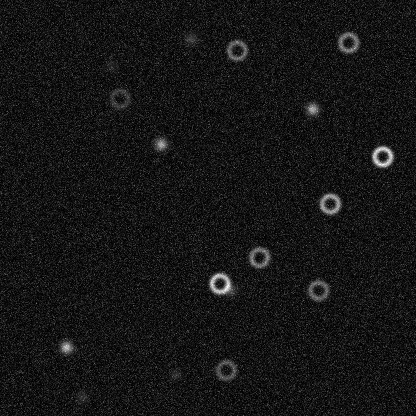Ring: (224, 38, 248, 62), (306, 278, 330, 302), (370, 144, 394, 168), (336, 30, 360, 54), (207, 271, 231, 295), (107, 86, 131, 110), (247, 245, 271, 269), (213, 358, 237, 382), (317, 191, 341, 215)
Spot: (167, 366, 183, 382), (304, 101, 320, 117), (182, 30, 198, 46), (152, 136, 168, 152), (103, 57, 119, 73), (221, 281, 237, 297), (73, 389, 89, 405), (58, 339, 74, 355)
